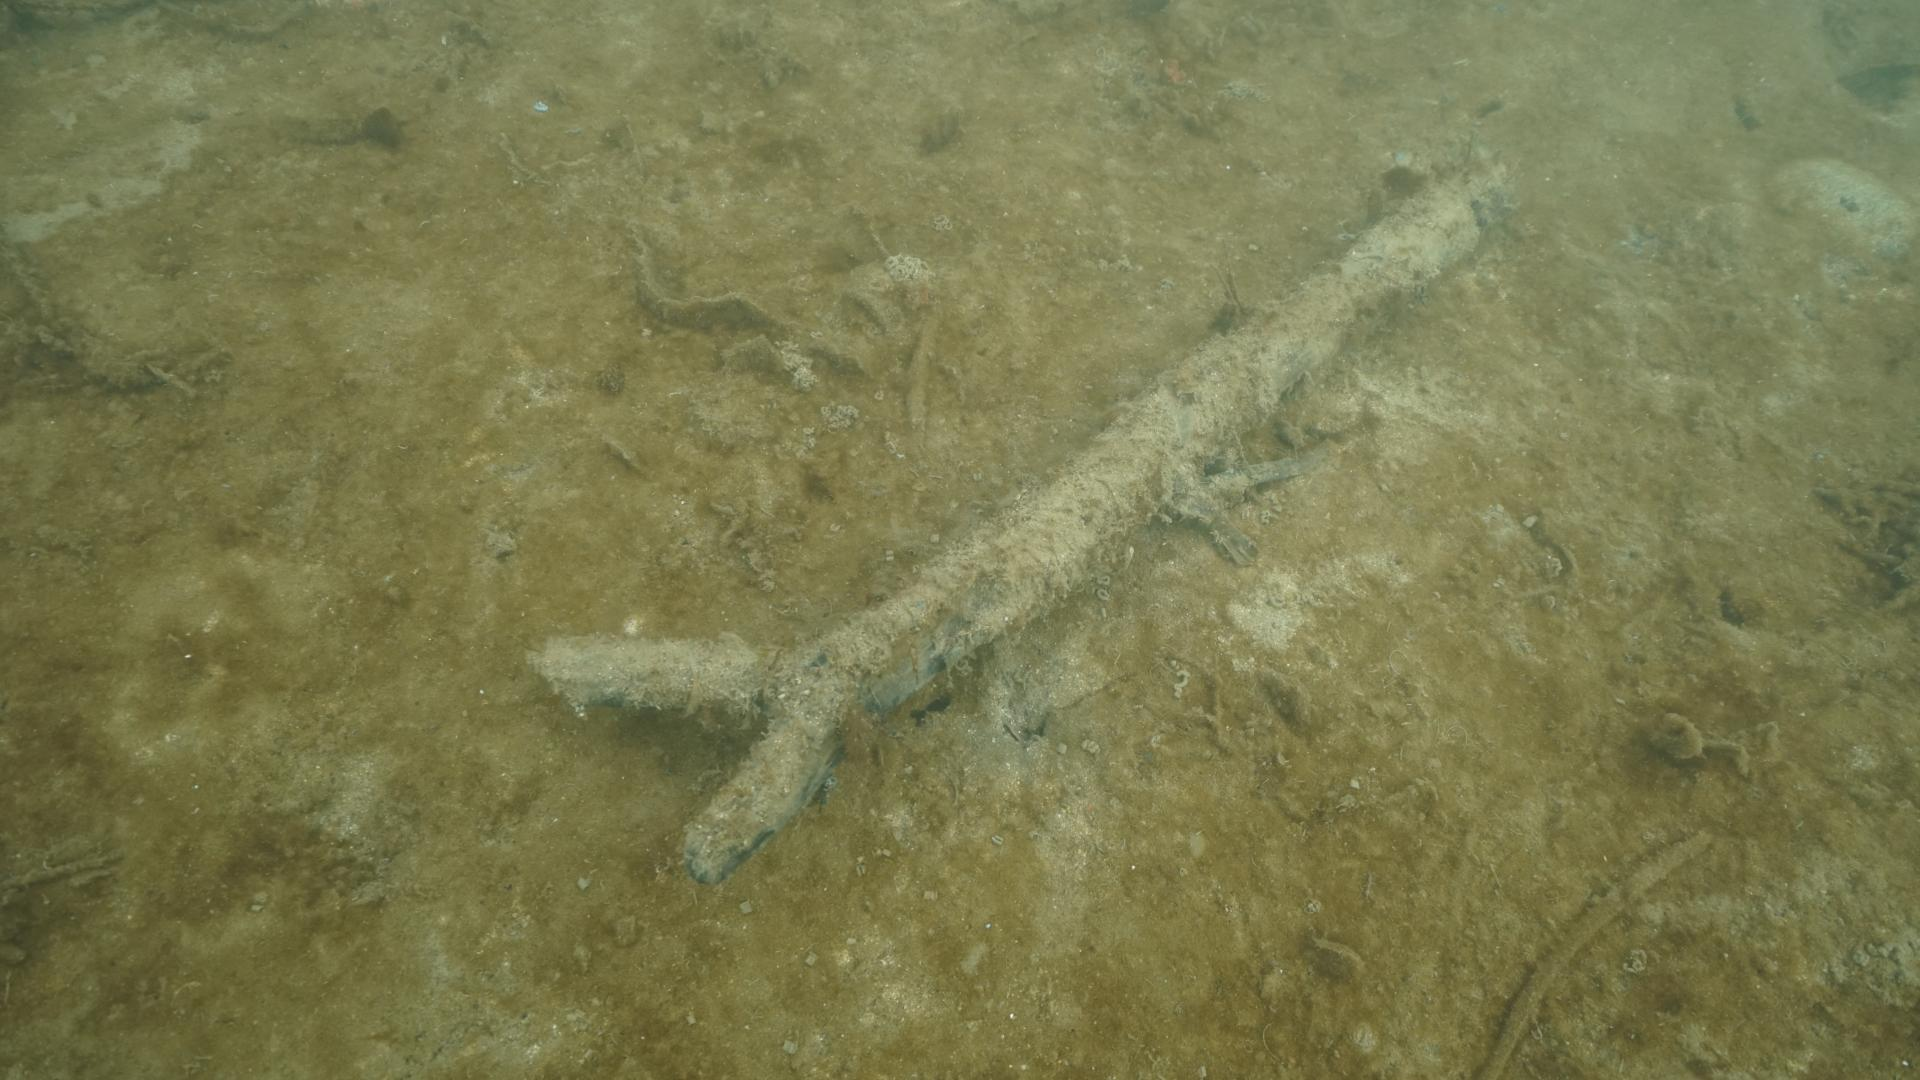wood: (531, 179, 1484, 880)
